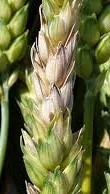Wheat scab: (21, 4, 79, 193)
